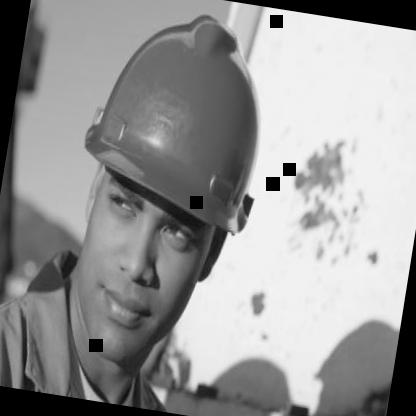helmet: (24, 0, 299, 409)
